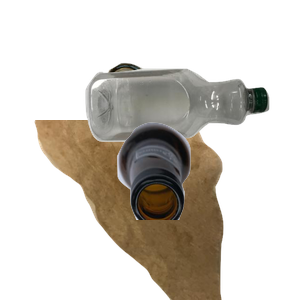glass: (115, 120, 300, 300)
metal: (102, 60, 252, 169)
plastic: (83, 66, 300, 201)
trash: (32, 120, 248, 300)
